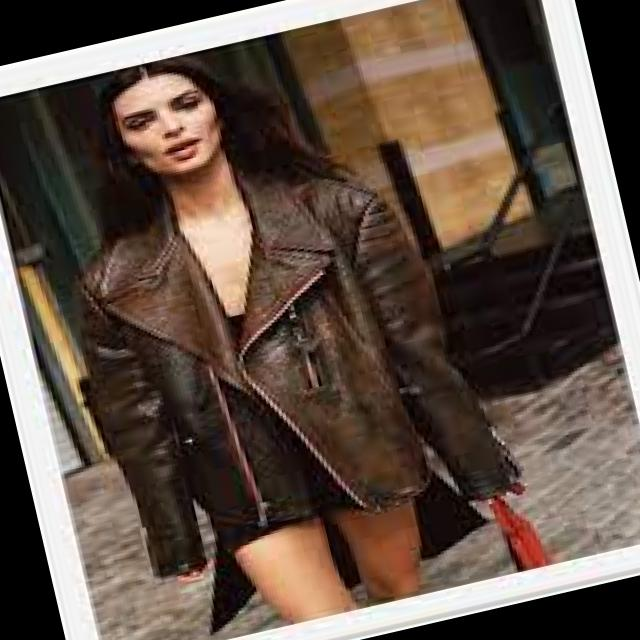Jacket: (38, 129, 533, 590)
